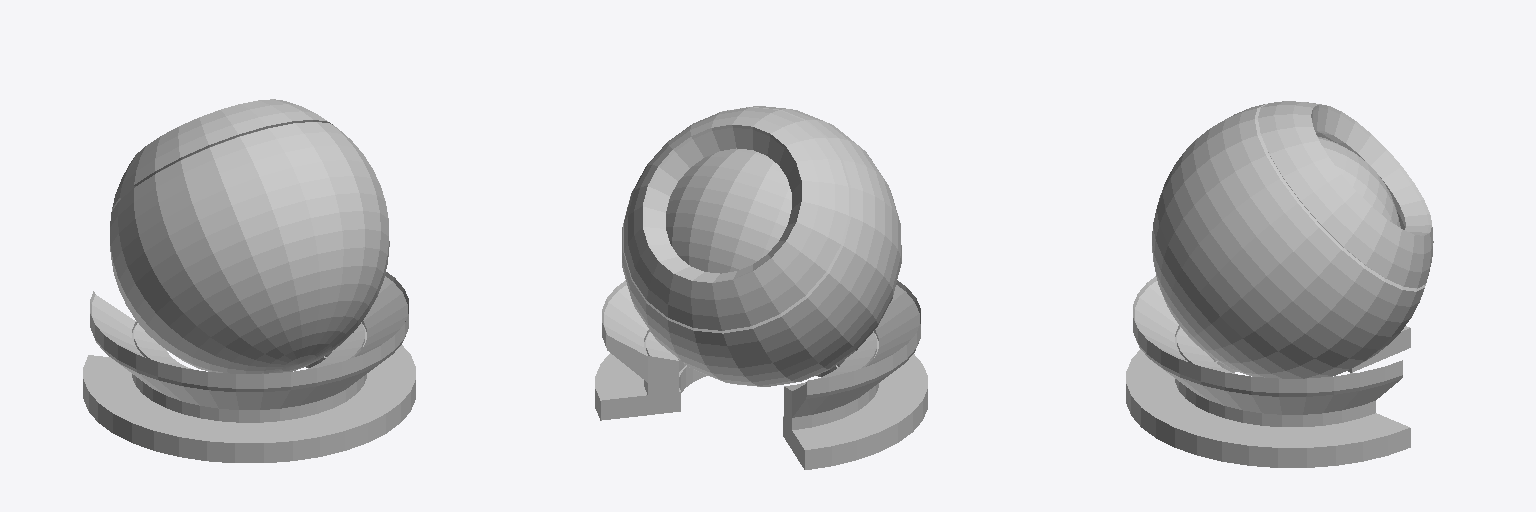
File: LTEO.obj
3 views of the same model, side by side, from view 1: azimuth 30°, elevation 25°; view 2: azimuth 150°, elevation 25°; view 3: azimuth 270°, elevation 25° (orthographic).
Visible parts, largest first — view 1: testObj; view 2: testObj; view 3: testObj.
Part boxes in pixels (bbox=[...]): testObj: bbox=[83, 99, 415, 462]; testObj: bbox=[595, 106, 927, 469]; testObj: bbox=[1126, 101, 1433, 467].
Size of the model in its own units: 1.08 by 1.02 by 0.9993.